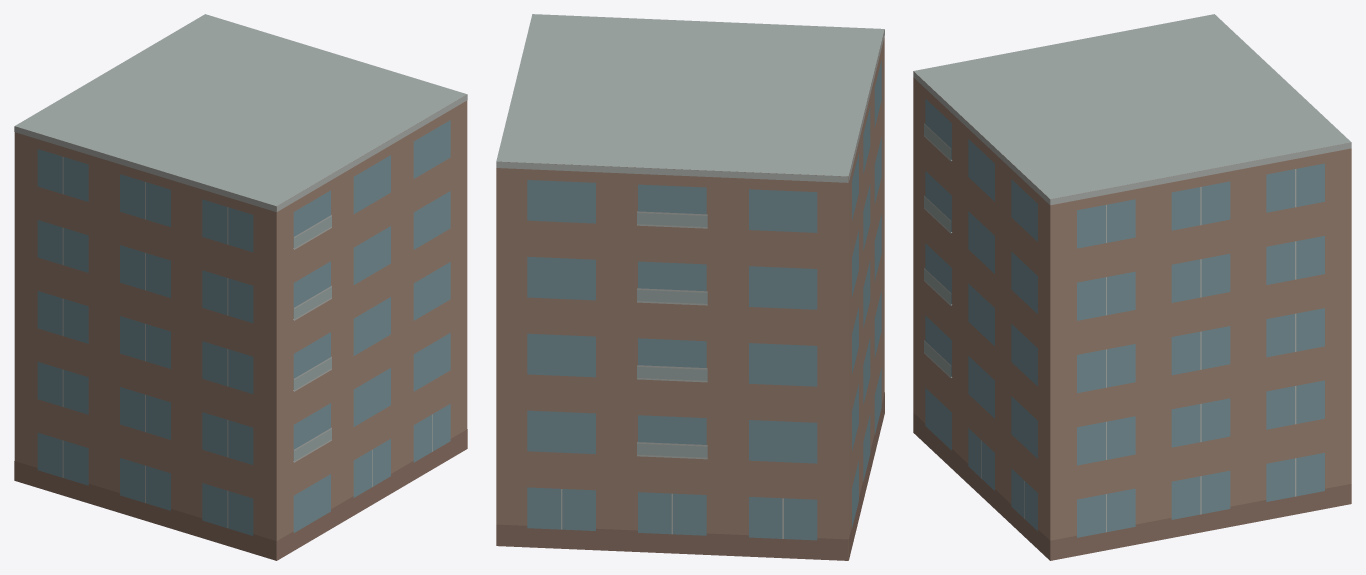
File: survey-upis-32746010.glb
The picture shows the model from 3 angles, left to right: view 1: azimuth 30°, elevation 25°; view 2: azimuth 150°, elevation 25°; view 3: azimuth 270°, elevation 25°; orthographic projection. The views are drawn at different scales.
Parts seen in each view (by area): view 1: survey-upis-32746010.tmp; view 2: survey-upis-32746010.tmp; view 3: survey-upis-32746010.tmp.
Boxes of the visible parts, <box> form: survey-upis-32746010.tmp: <box>14,14,467,560</box>; survey-upis-32746010.tmp: <box>496,14,884,560</box>; survey-upis-32746010.tmp: <box>913,14,1351,560</box>.
Size of the model in its own units: 16.06 by 14.6 by 16.05.
